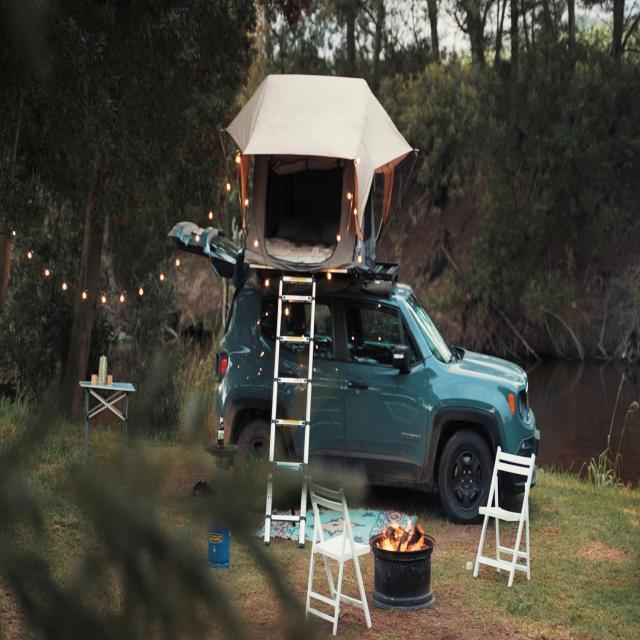Fire: (381, 508, 424, 556)
